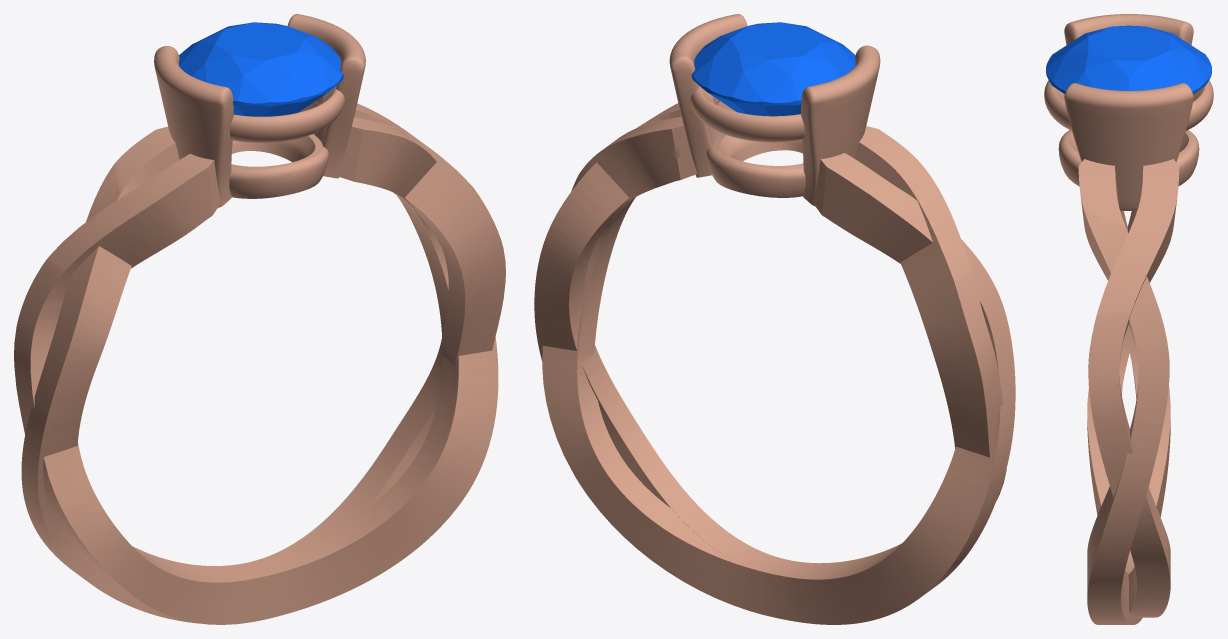
File: bluesapphire-round-rosegold-halfmoonbezel-twist-nosidestones.glb
3 renders of one model, left to right at view 1: azimuth 30°, elevation 25°; view 2: azimuth 150°, elevation 25°; view 3: azimuth 270°, elevation 25°, orthographic. The views are drawn at different scales.
Parts seen in each view (by area): view 1: metal.003, stone; view 2: metal.003, stone; view 3: metal.003, stone.
Boxes of the visible parts, bbox=[...] form: metal.003: bbox=[14, 14, 505, 624]; stone: bbox=[179, 22, 343, 116]; metal.003: bbox=[534, 14, 1015, 624]; stone: bbox=[691, 22, 855, 116]; metal.003: bbox=[1044, 14, 1213, 624]; stone: bbox=[1046, 25, 1211, 94].
Bounding box in the file's own units: 19.97 × 23.72 × 6.58.
